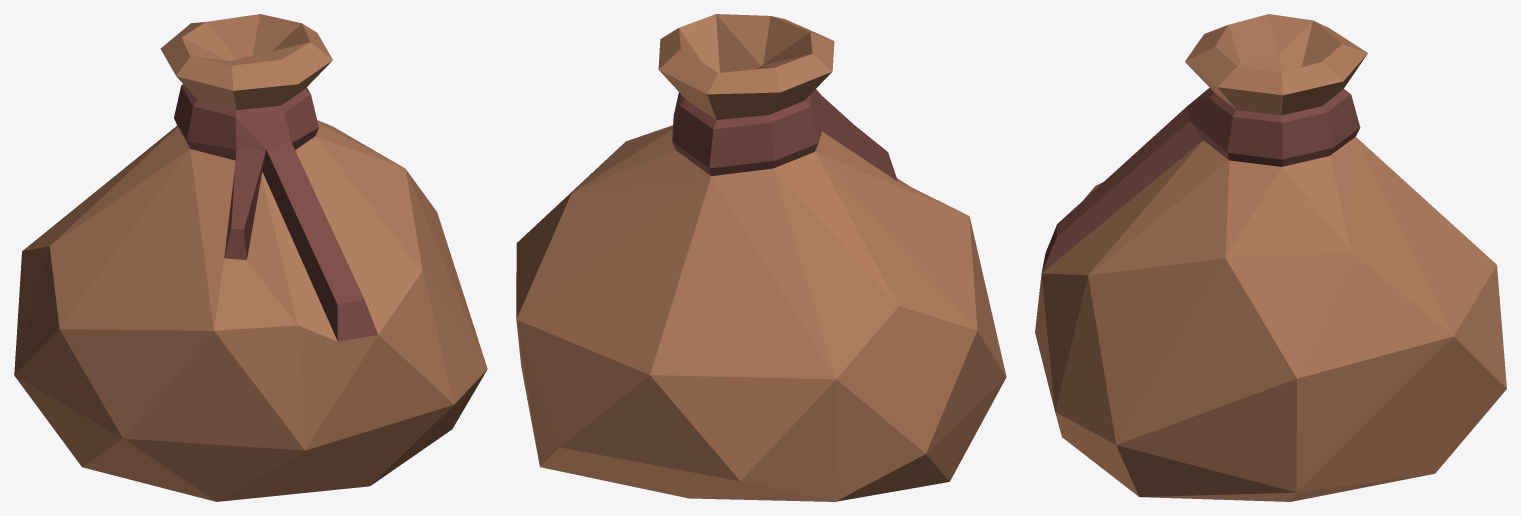
File: LootBag.fbx
The picture shows the model from 3 angles, left to right: view 1: azimuth 30°, elevation 25°; view 2: azimuth 150°, elevation 25°; view 3: azimuth 270°, elevation 25°; orthographic projection. The views are drawn at different scales.
Parts seen in each view (by area): view 1: LootBag; view 2: LootBag; view 3: LootBag.
Part boxes in pixels (x1,y1,x2,y2): LootBag: [14, 14, 487, 501]; LootBag: [516, 14, 1006, 501]; LootBag: [1035, 14, 1506, 501].
Bounding box in the file's own units: 279 × 248 × 277.
